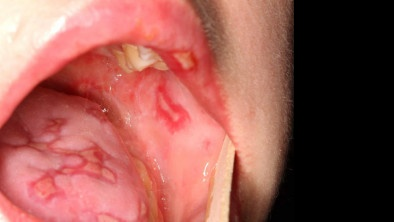SJS-TEN: (1, 99, 125, 210), (137, 80, 196, 139), (161, 43, 201, 79)
